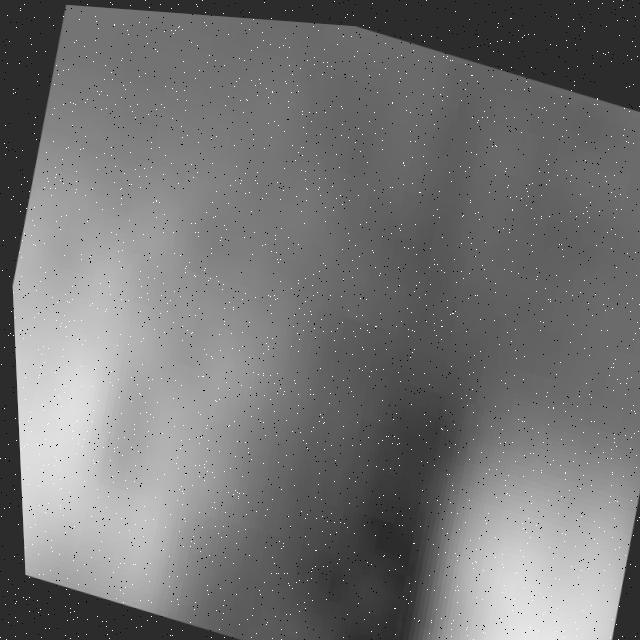person: (2, 18, 292, 625), (391, 355, 640, 640)
